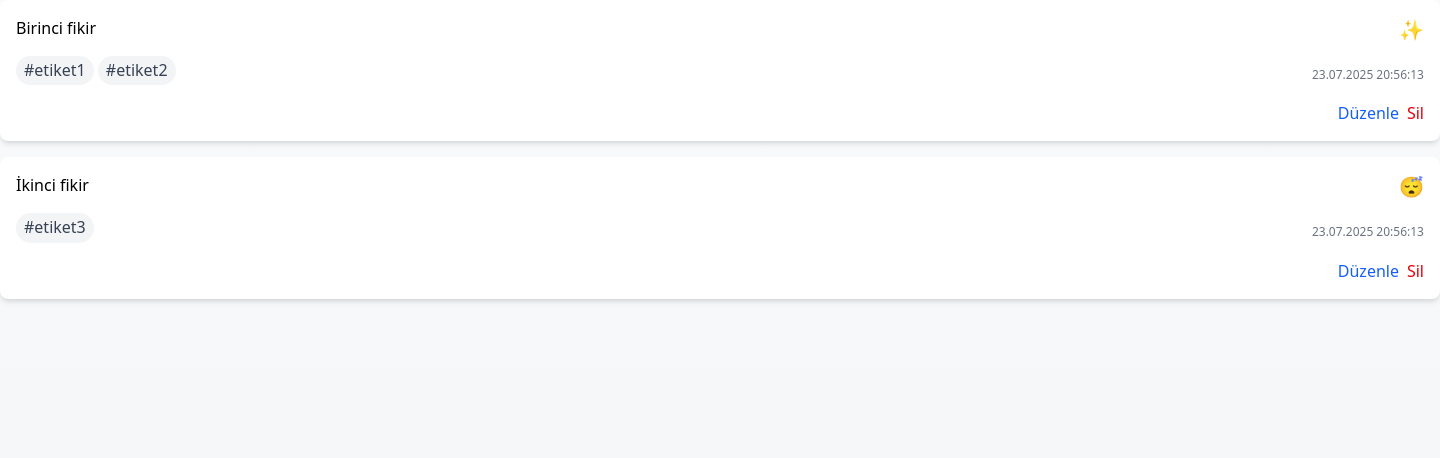
IdeaList › Düzenle butonuna tıklanınca düzenleme formu açılıyor
Click the 1st button "Düzenle".
click(1368, 113)  # box [1338,101,1399,125]
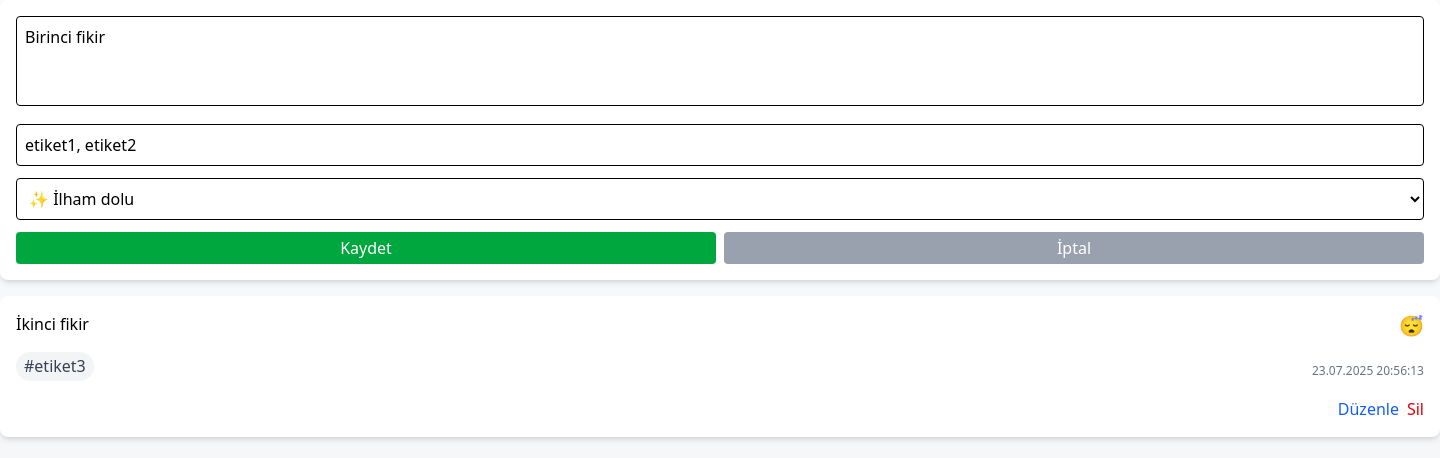
Result: the text box showing "Birinci fikir" is shown at [16,16,1424,106]
Result: the field showing "etiket1, etiket2" is shown at [16,124,1424,166]
